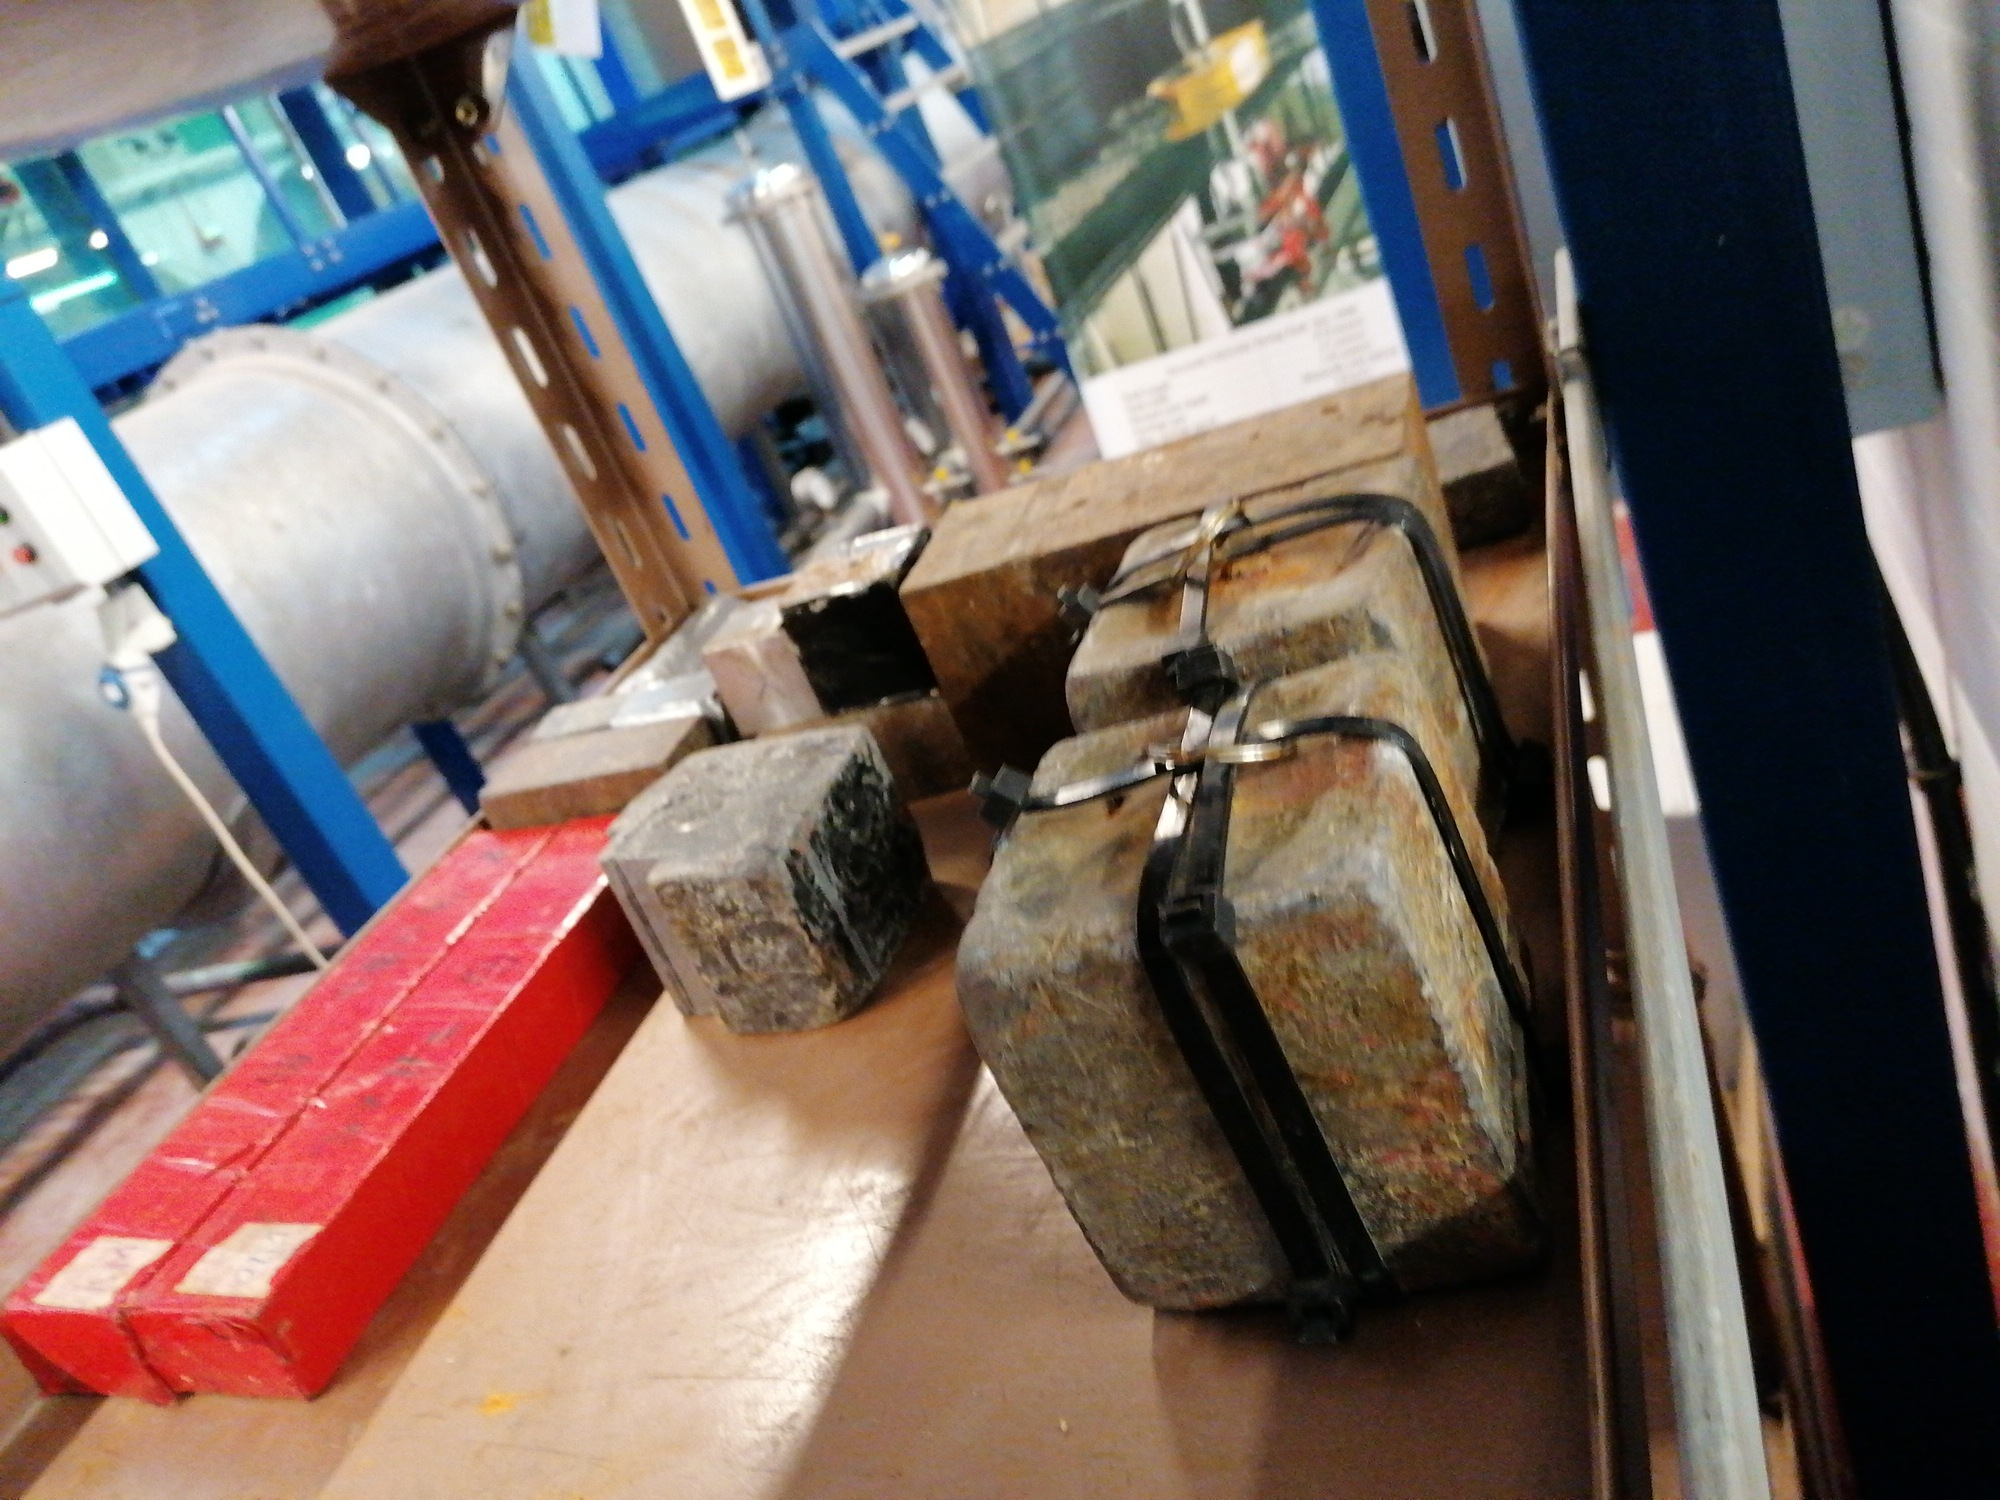lead-block: (948, 643, 1543, 1347), (898, 366, 1471, 777), (1057, 447, 1498, 807), (591, 718, 935, 1034), (773, 518, 961, 706)
